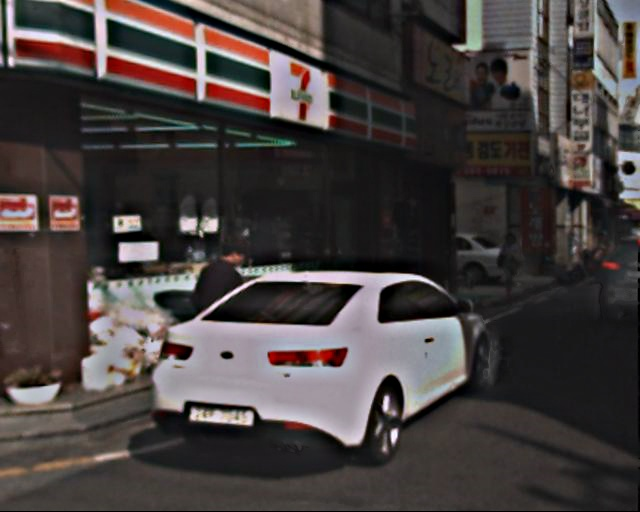person: (197, 232, 255, 374), (495, 229, 534, 298)
